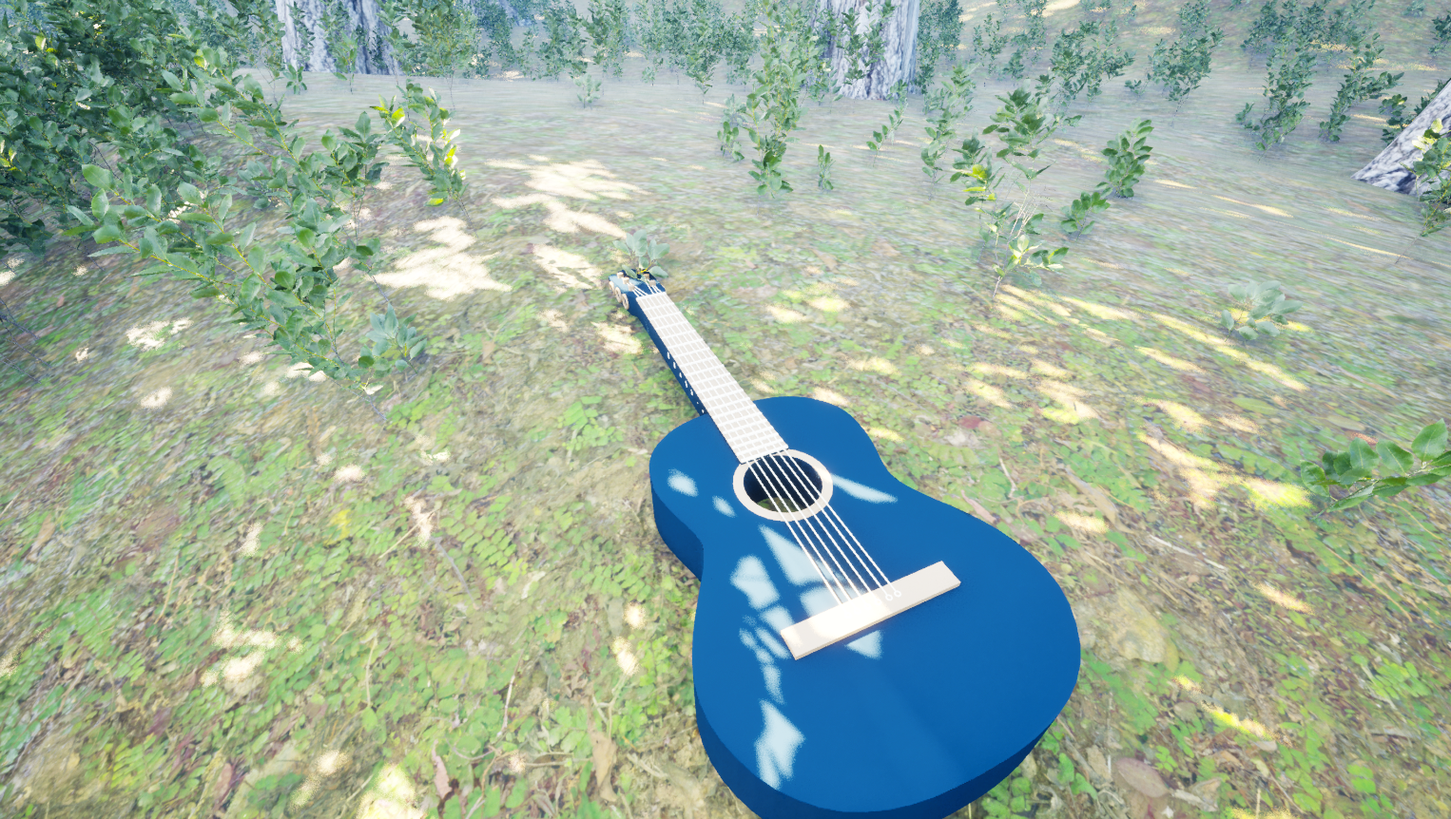Guitar: (520, 240, 1158, 819)
